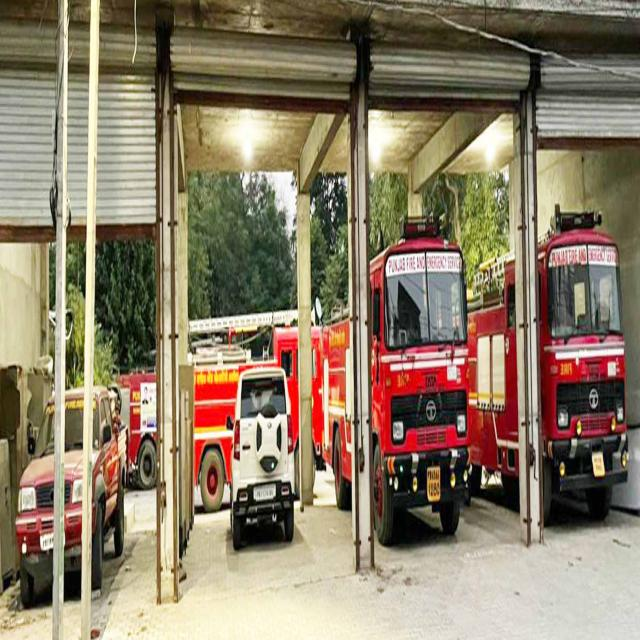car: (16, 365, 126, 636), (231, 365, 294, 549)
emergency: (468, 205, 629, 517), (322, 223, 470, 542), (189, 308, 299, 510)
